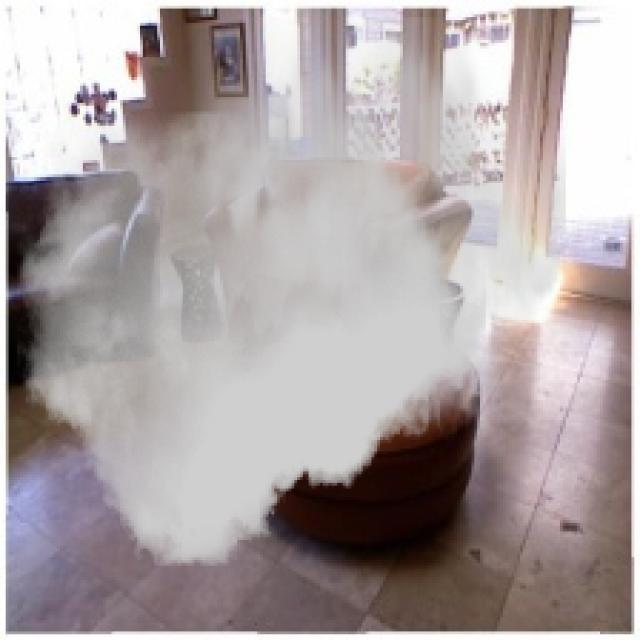Smoke: (17, 17, 566, 566)
